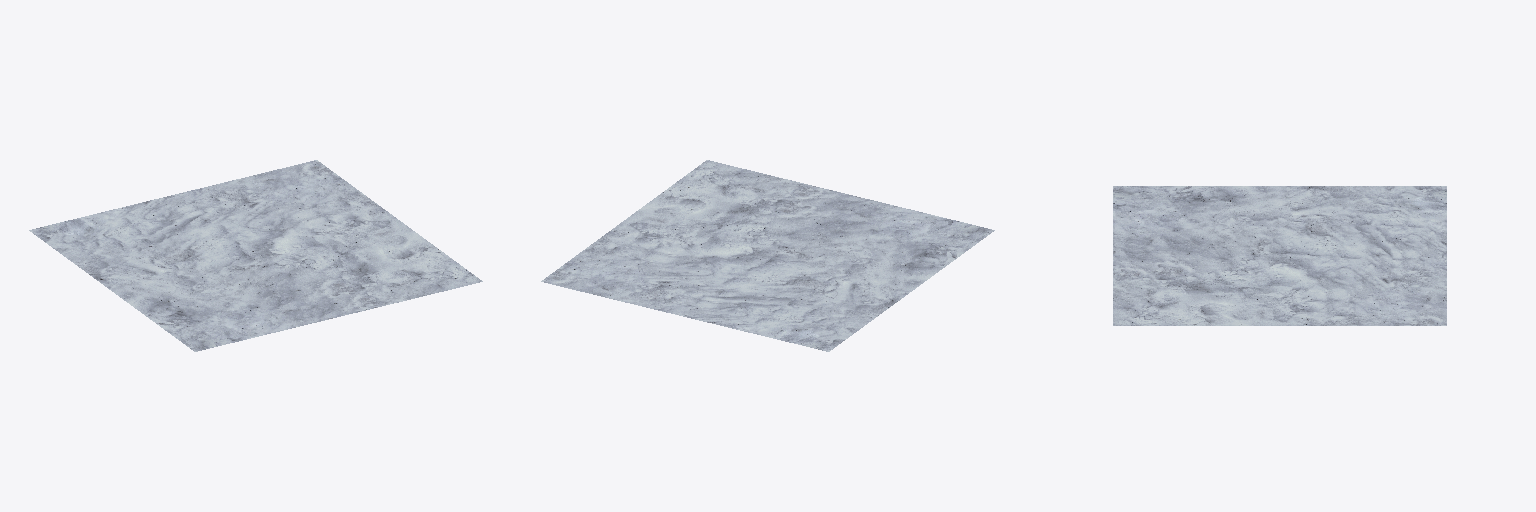
3 views of the same model, side by side, from view 1: azimuth 30°, elevation 25°; view 2: azimuth 150°, elevation 25°; view 3: azimuth 270°, elevation 25° (orthographic).
Parts seen in each view (by area): view 1: Plane; view 2: Plane; view 3: Plane.
Boxes of the visible parts, box(x1,y1,x2,y2) form: Plane: box(29, 160, 482, 351); Plane: box(541, 160, 994, 351); Plane: box(1113, 186, 1446, 325).
Bounding box in the file's own units: 427 × 0 × 427.
Materials: 1 (1 with a texture image).